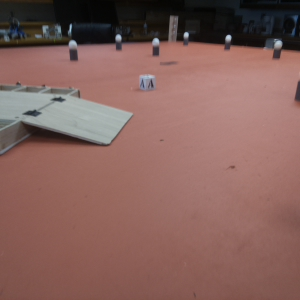obstacle: (66, 39, 83, 65), (112, 32, 126, 54), (293, 76, 300, 107), (150, 37, 162, 55), (272, 40, 283, 59), (224, 33, 233, 49), (182, 32, 190, 48)
side: (1, 78, 80, 95)
slope: (28, 95, 128, 143)
